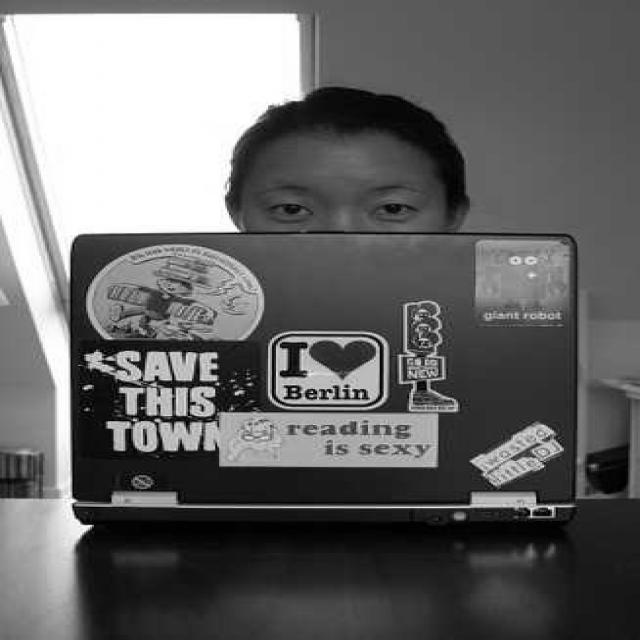laptop: (48, 239, 593, 543)
